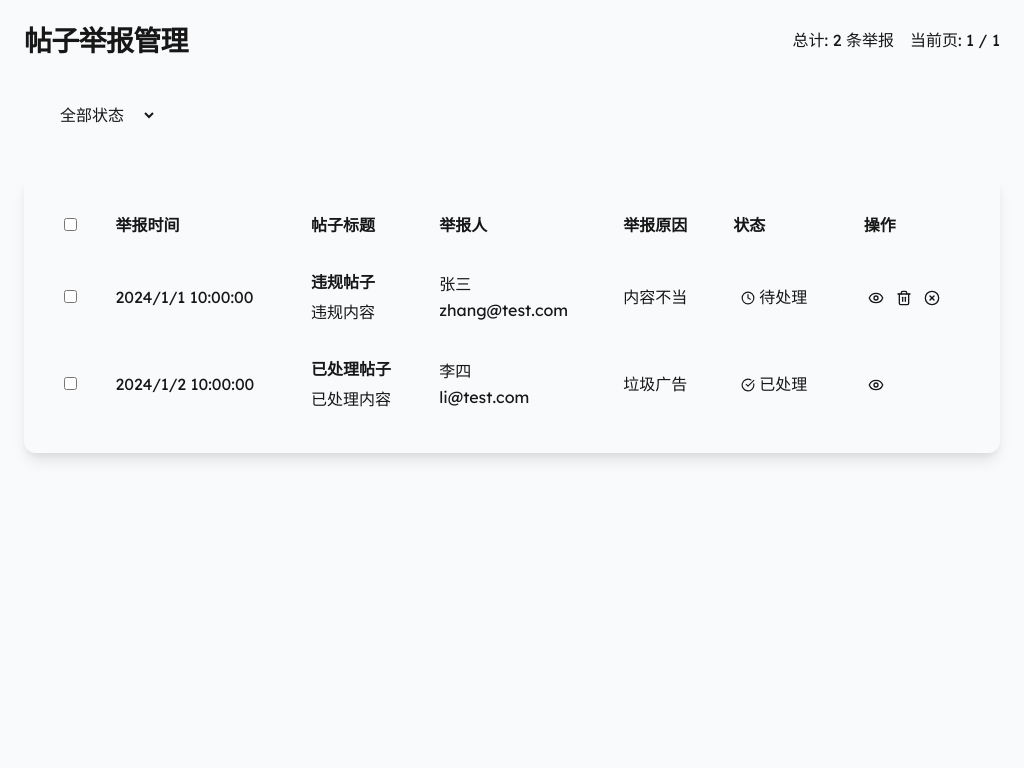
it: PostReportManagement › opens detail modal
expect the text "违规帖子" is shown: met, box [311, 272, 375, 292]
What coordinates should you click on to do the following:
click the button titled "查看详情" in the row of "2024/1/1 10:00:00"
I would click on:
 (876, 298)
Its box is [864, 286, 888, 310].
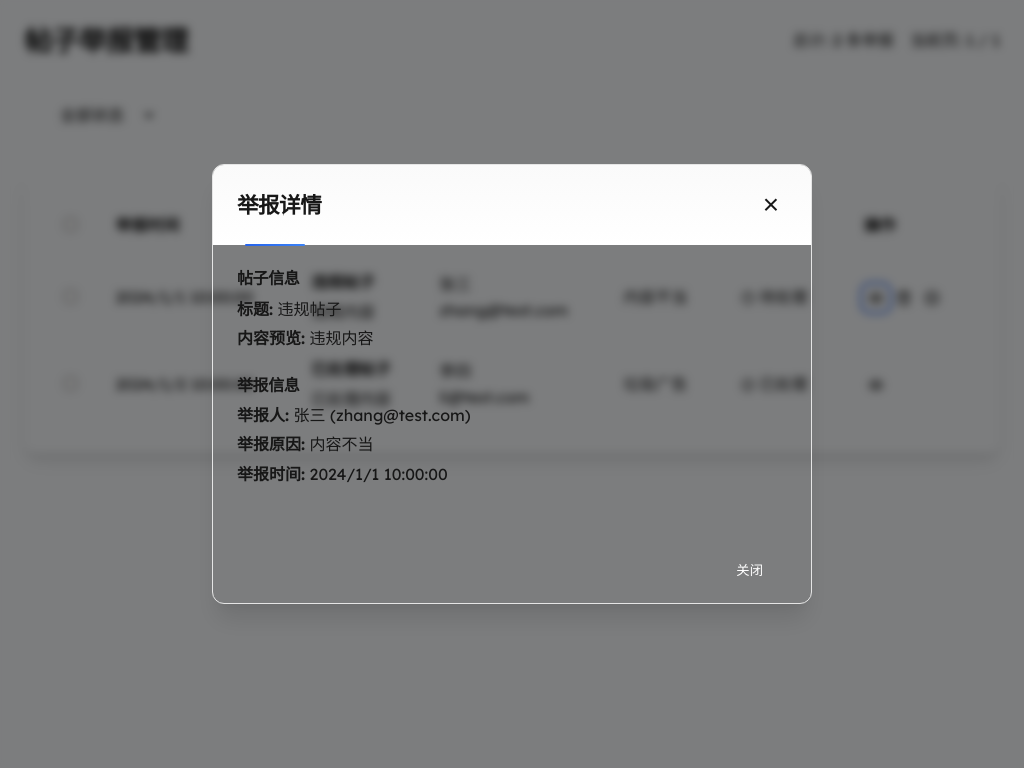
expect the heading "举报详情" is shown: met, box [237, 192, 321, 218]
